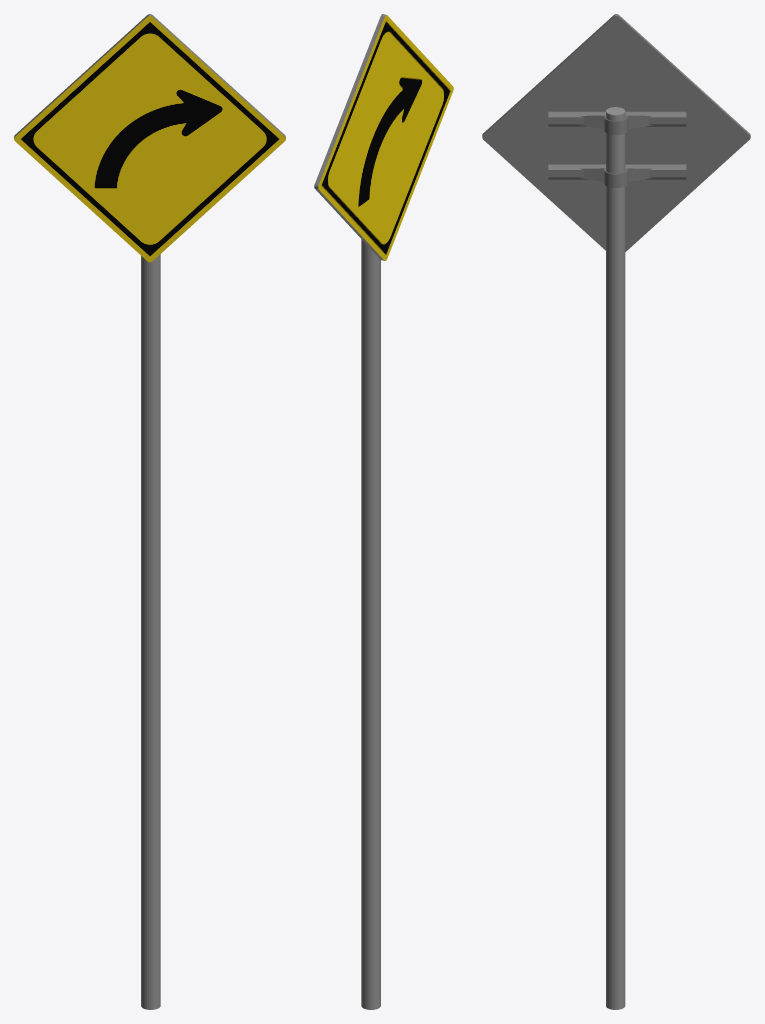
The picture shows the model from 3 angles, left to right: view 1: azimuth 90°, elevation 25°; view 2: azimuth 150°, elevation 25°; view 3: azimuth 270°, elevation 25°; orthographic projection.
Visible parts, largest first — view 1: 004, Prop; view 2: 004, Prop; view 3: 004, Prop.
Boxes of the visible parts, x1,y1,x2,y2 form: 004: (14, 14, 285, 262); Prop: (141, 254, 160, 1009); 004: (314, 14, 453, 260); Prop: (361, 239, 380, 1009); 004: (482, 14, 750, 251); Prop: (548, 107, 686, 1009).
Size of the model in its own units: 6.76 by 259 by 63.95.
